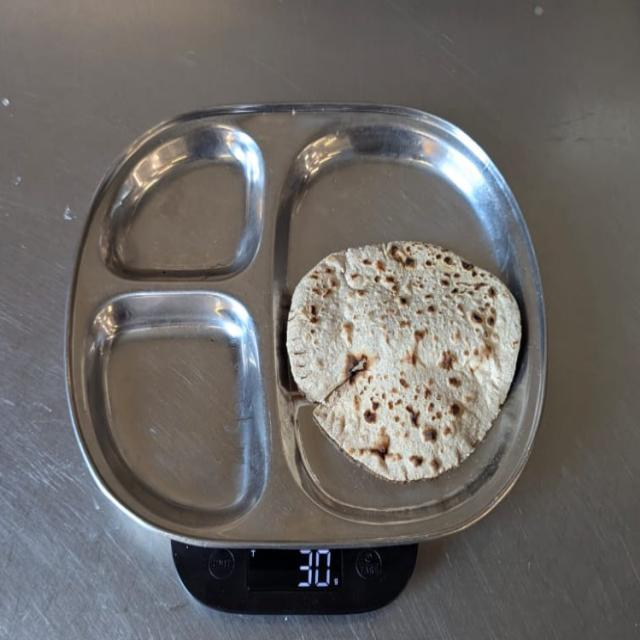Chapati: (287, 242, 523, 480)
